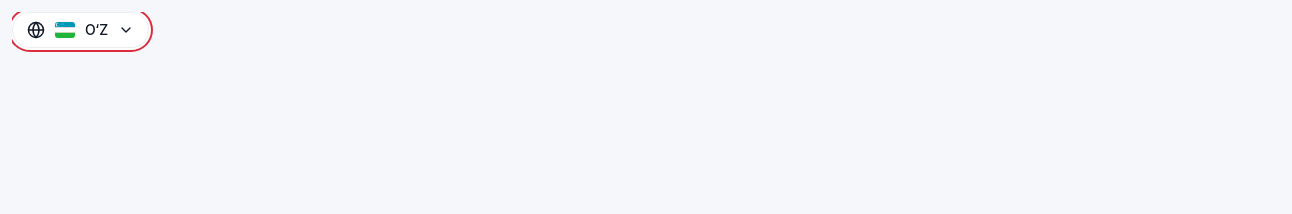
it: shared locale pill and Radix dropdown › dismisses on an outside pointer press
This screenshot has width=1292, height=214.
Press Enter in the button "O‘Z", box [12,12,149,48]
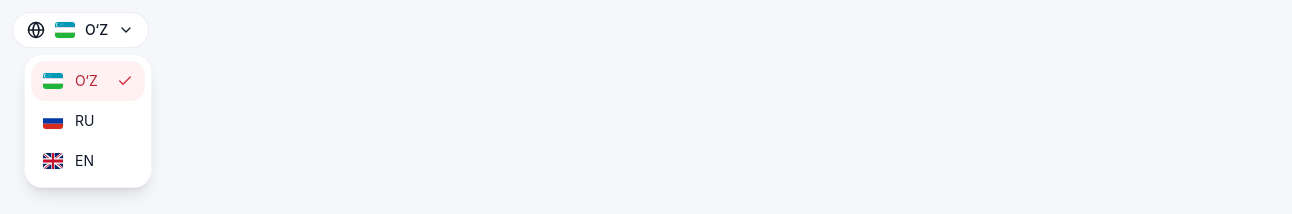
Press the mouse on the element showing "O‘Z O‘Z RU EN": (652, 30) [12,12,1291,48]
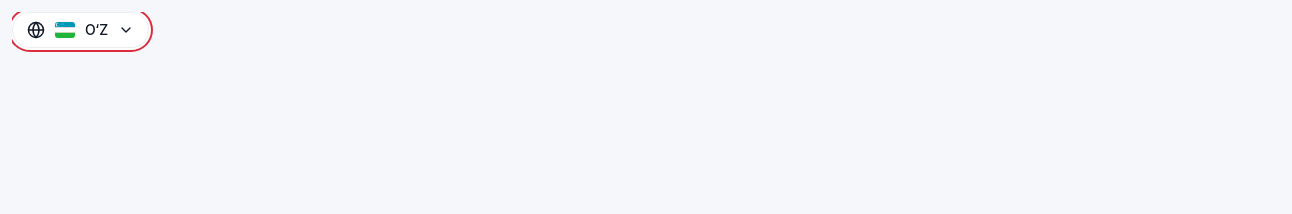
Result: the menu is gone
